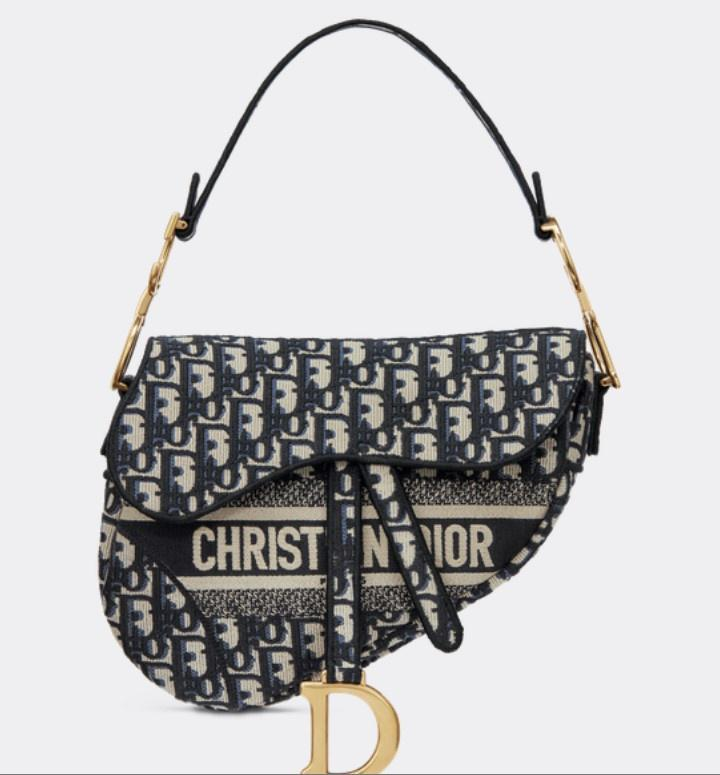DIOR: (183, 503, 503, 589)
